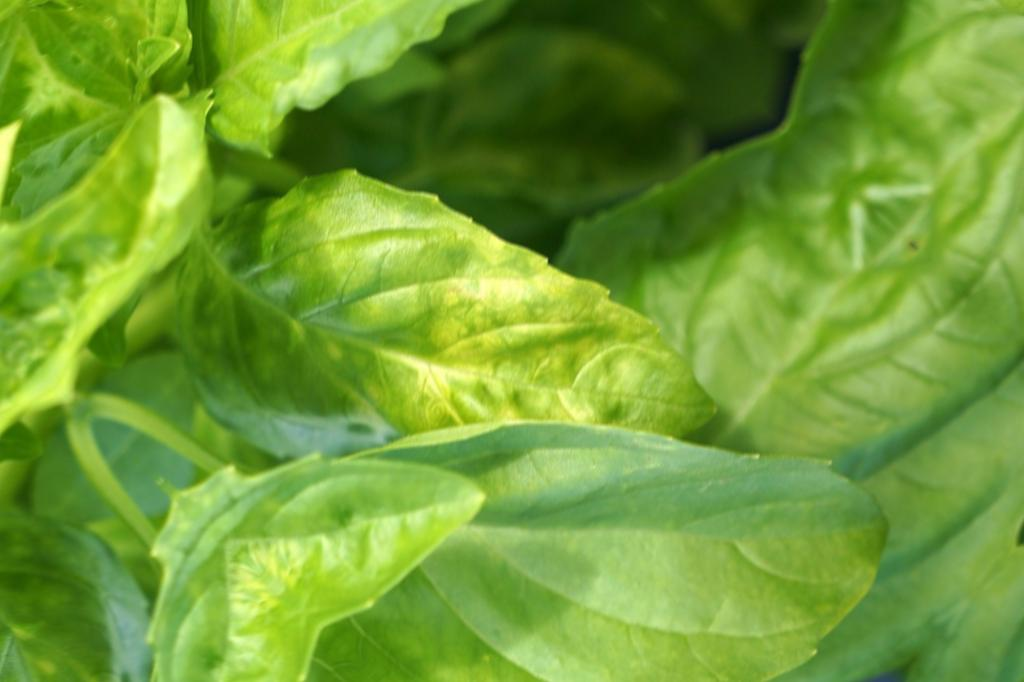Tomato leaf: (115, 58, 731, 665), (291, 247, 919, 682)
